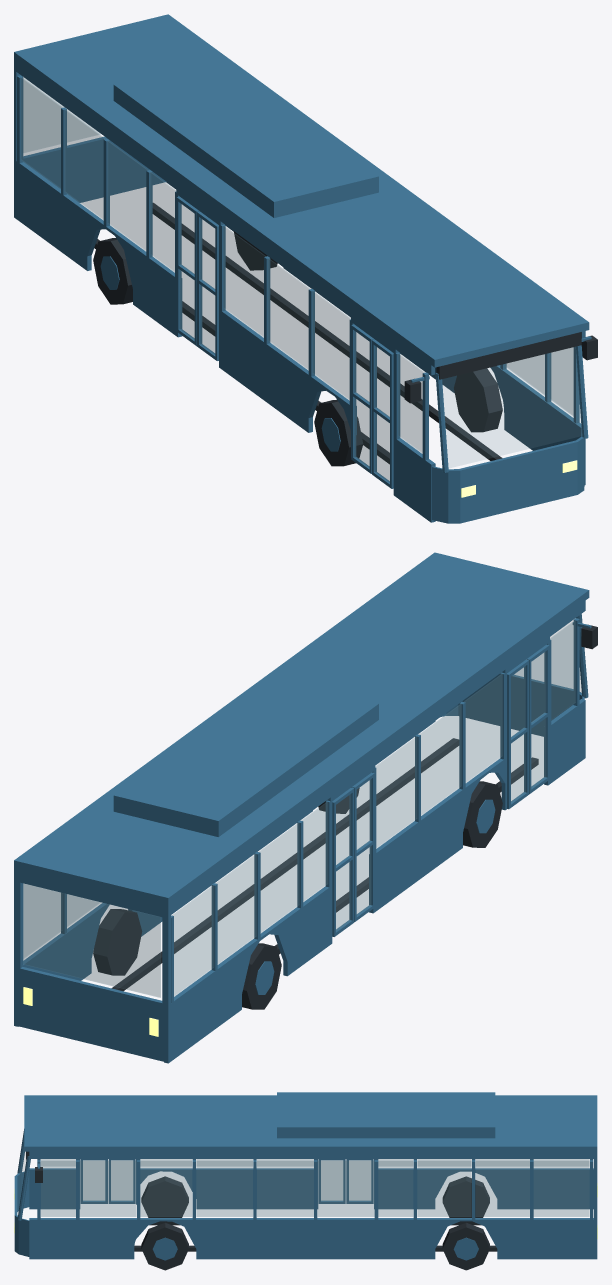
File: city-bus-12m-exterior.lod1.glb
3 views of the same model, one above another, from view 1: azimuth 30°, elevation 25°; view 2: azimuth 150°, elevation 25°; view 3: azimuth 270°, elevation 25° (orthographic). The views are drawn at different scales.
Parts seen in each view (by area): view 1: body-shell, glass, roof-equipment, body-trim, door-right-front-b-panel, door-right-rear-b-panel, door-right-rear-a-panel, door-right-front-a-panel, wheel-front-left-tyre, wheel-front-right-tyre, wheel-rear-right-tyre, wheel-rear-left-tyre; view 2: body-shell, glass, roof-equipment, body-trim, door-right-rear-a-panel, door-right-front-a-panel, door-right-front-b-panel, door-right-rear-b-panel, wheel-rear-left-tyre, wheel-front-right-tyre, wheel-rear-right-tyre; view 3: body-shell, glass, roof-equipment, wheel-front-right-tyre, wheel-rear-right-tyre, wheel-front-left-tyre, wheel-rear-left-tyre, door-right-front-a-panel, door-right-front-b-panel, door-right-rear-a-panel, door-right-rear-b-panel, body-trim (+2 smaller).
Boxes of the visible parts, x1,y1,x2,y2 form: body-shell: (14,14,591,523); glass: (21,77,581,467); roof-equipment: (113,59,378,217); body-trim: (94,203,597,464); door-right-front-b-panel: (372,339,393,488); door-right-rear-b-panel: (197,211,218,360); door-right-rear-a-panel: (176,196,199,346); door-right-front-a-panel: (351,324,374,473); wheel-front-left-tyre: (454,368,502,432); wheel-front-right-tyre: (314,399,362,466); wheel-rear-right-tyre: (93,238,132,304); wheel-rear-left-tyre: (233,231,277,270); body-shell: (14,552,591,1063); glass: (23,620,580,997); roof-equipment: (113,678,378,836); body-trim: (111,624,597,991); door-right-rear-a-panel: (332,787,354,936); door-right-front-a-panel: (507,659,528,809); door-right-front-b-panel: (526,644,549,794); door-right-rear-b-panel: (351,772,374,921); wheel-rear-left-tyre: (93,909,141,975); wheel-front-right-tyre: (463,781,502,847); wheel-rear-right-tyre: (242,943,281,1009); body-shell: (14,1095,597,1259); glass: (20,1150,589,1216); roof-equipment: (277,1092,495,1138); wheel-front-right-tyre: (141,1176,188,1217); wheel-rear-right-tyre: (442,1176,489,1217); wheel-front-left-tyre: (141,1222,188,1270); wheel-rear-left-tyre: (442,1222,489,1270); door-right-front-a-panel: (108,1159,135,1203); door-right-front-b-panel: (80,1159,107,1203); door-right-rear-a-panel: (346,1159,373,1203); door-right-rear-b-panel: (318,1159,345,1203); body-trim: (26,1151,497,1251).
Size of the model in its own units: 3.04 by 3.07 by 12.03.
